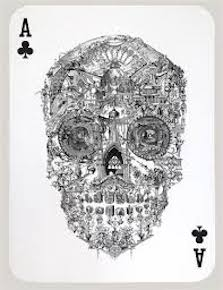AceOfClubs: (6, 6, 219, 290)
